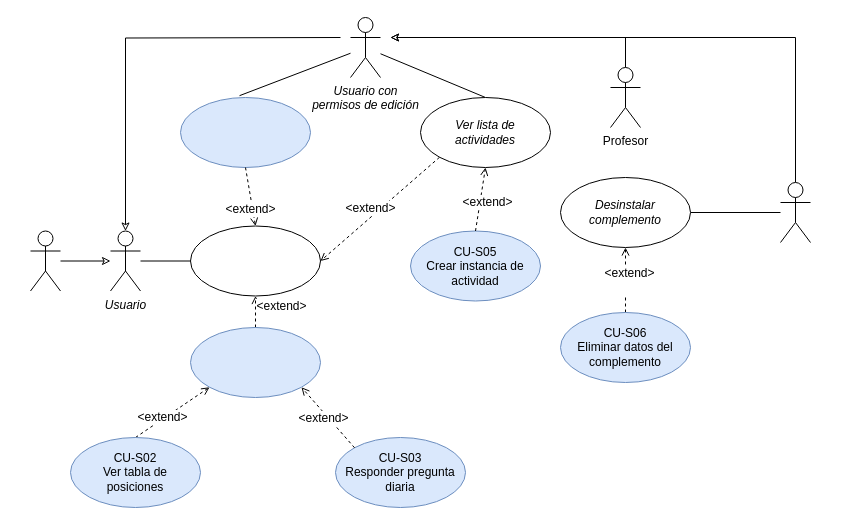
Image size: 850x525. Some labels were removed from this diagram. The shapes that lost their labels are listed below. From the top down, each one's centre as x and y in pixels, then its label:
At point 245,132: "CU-S04 Eliminar instancia de actividad".
At point 795,212: "Administrador".
At point 45,260: "Estudiante".
At point 255,260: "Ver curso".
At point 255,362: "CU-S01 Ver estado de actividad".
